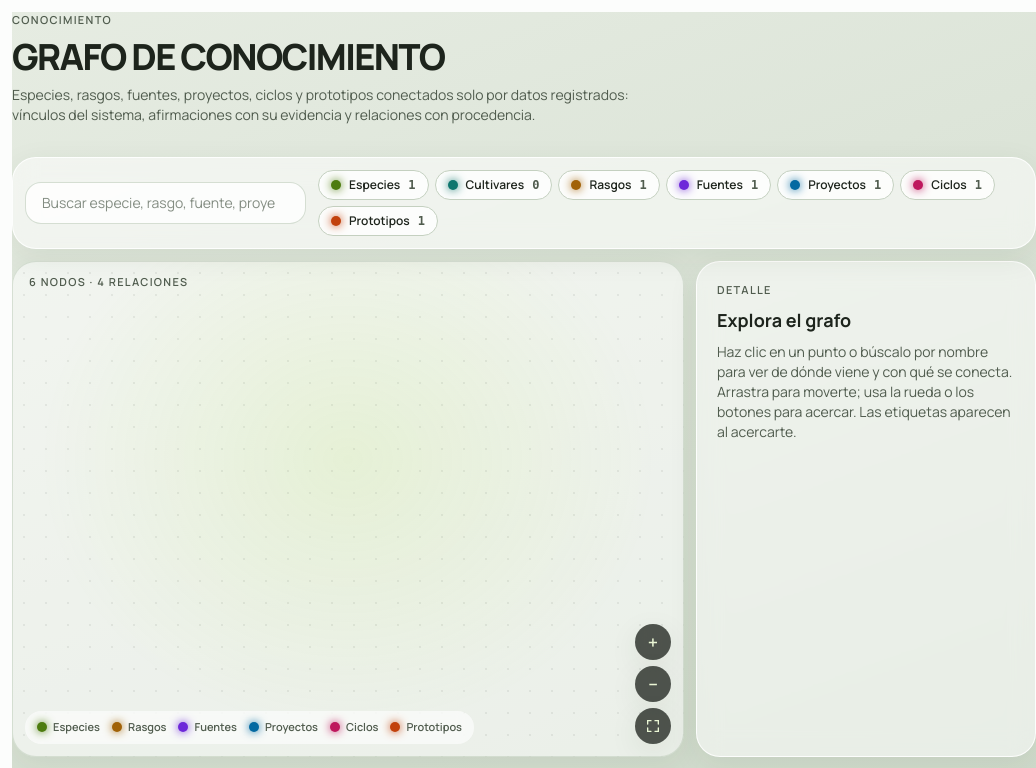
Test: GraphPage › los filtros por tipo recargan con types y no permiten apagar el último
The width and height of the screenshot is (1036, 768).
Click the button "Fuentes 1" at (718, 184), box [666,170,771,200]
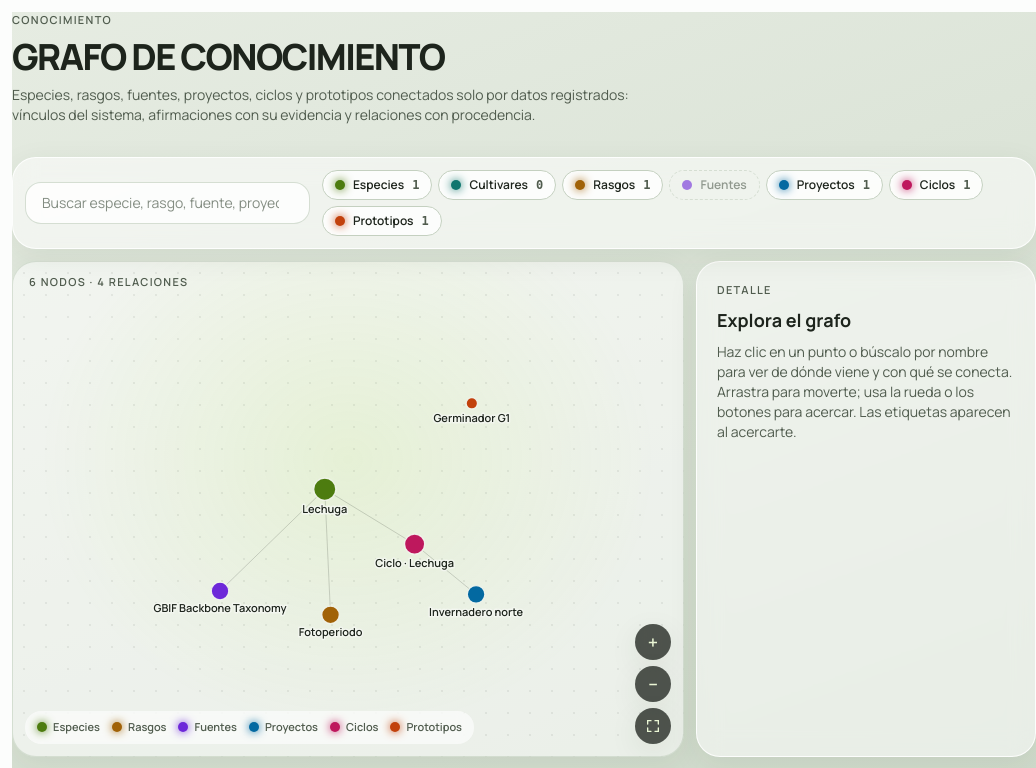
Expected: the button "Fuentes" is not pressed, [670,170,760,200]
Click the button "Especies 1" at (377, 184), box [322,170,432,200]
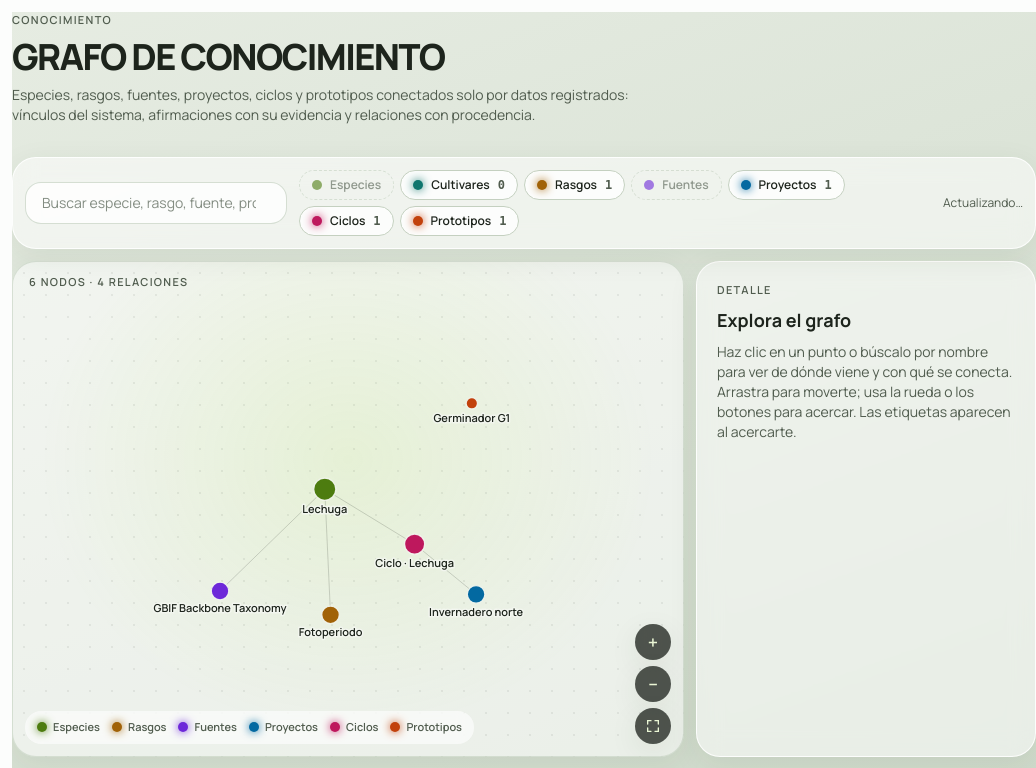
Click the button "Cultivares 0" at (459, 184), box [400,170,518,200]
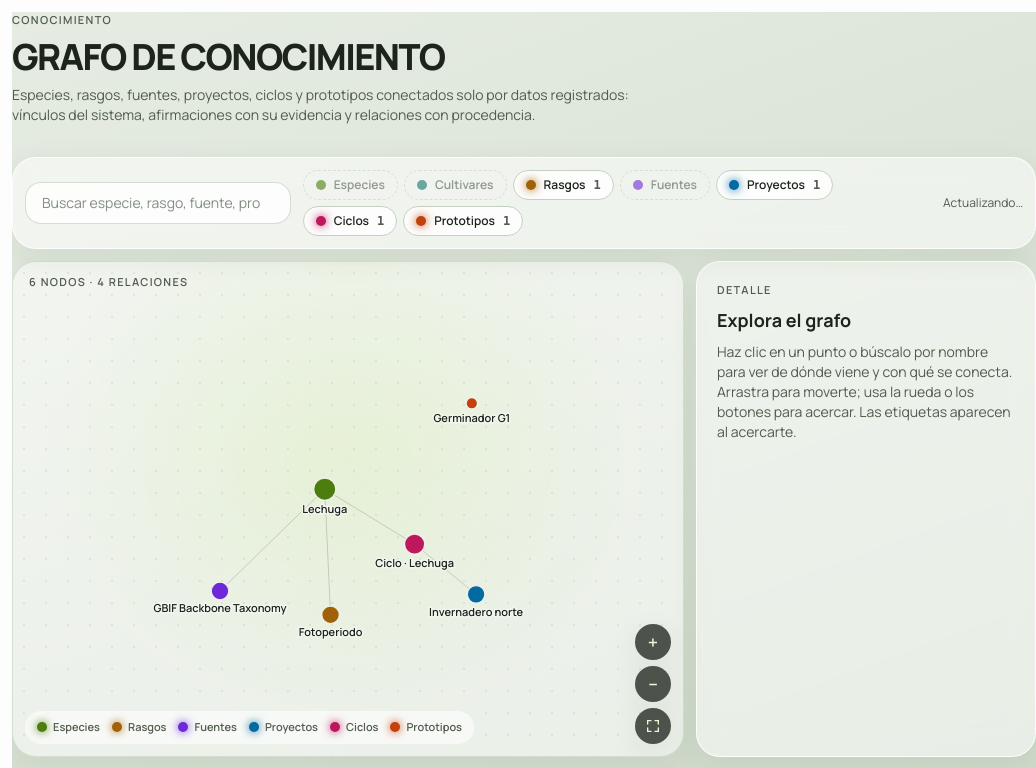
Click the button "Rasgos 1" at (563, 184), box [512,170,614,200]
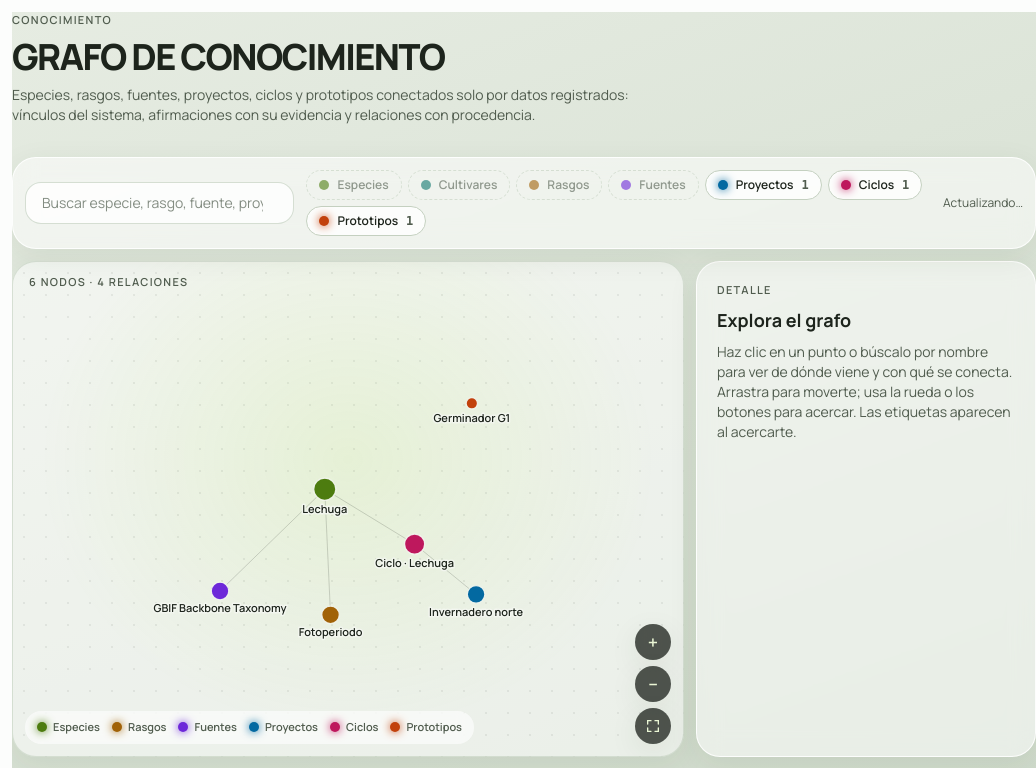
Click the button "Proyectos 1" at (763, 184), box [705,170,822,200]
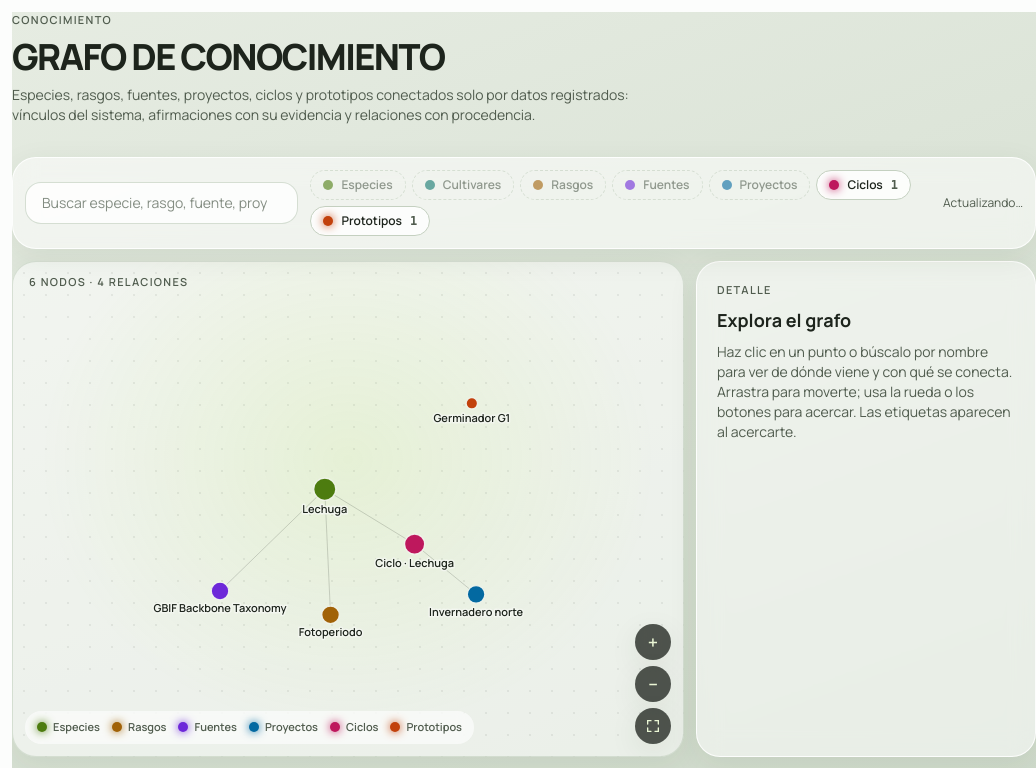
Click the button "Ciclos 1" at (864, 184), box [816,170,911,200]
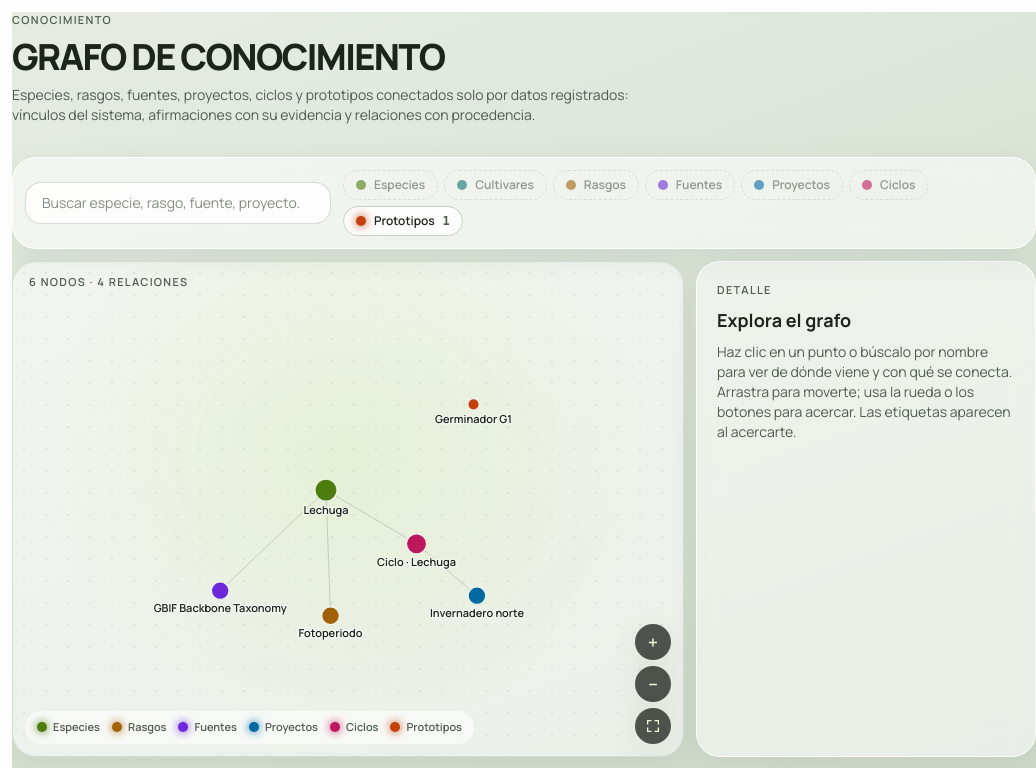
Expected: the button "Prototipos 1" is disabled, [343,206,463,236]
